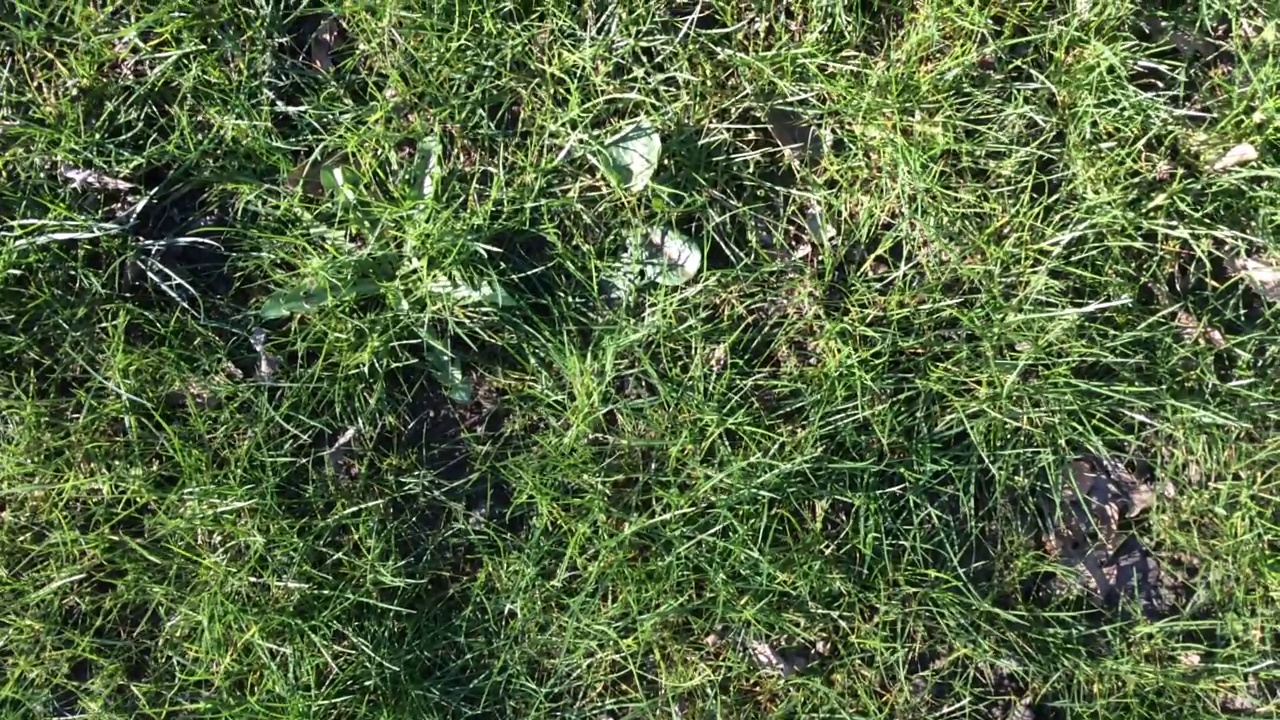rumex: (605, 117, 663, 196), (627, 233, 702, 286)
